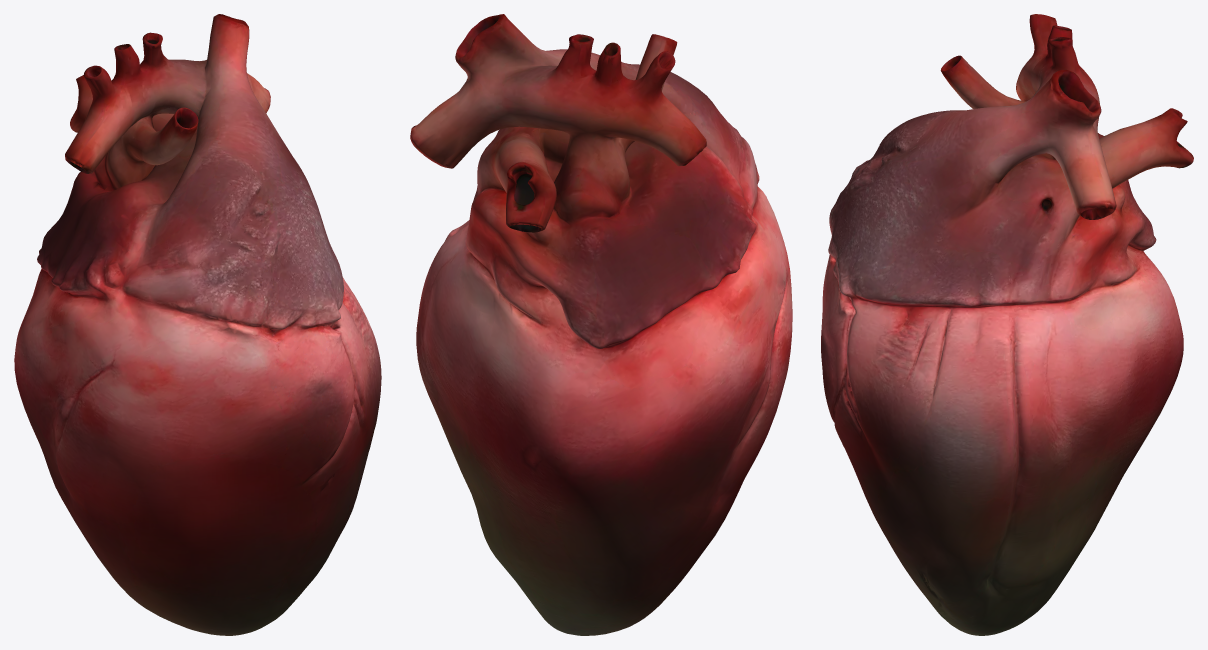
The model's file is modelo-ligero.glb.
The picture shows the model from 3 angles, left to right: view 1: azimuth 30°, elevation 25°; view 2: azimuth 150°, elevation 25°; view 3: azimuth 270°, elevation 25°; orthographic projection. The views are drawn at different scales.
Parts seen in each view (by area): view 1: Object_4; view 2: Object_4; view 3: Object_4.
Boxes of the visible parts, left/top/right/bottom form: Object_4: left=14, top=14, right=381, bottom=635; Object_4: left=410, top=14, right=792, bottom=635; Object_4: left=821, top=14, right=1193, bottom=635.
Size of the model in its own units: 0.6393 by 1.16 by 0.681.
Materials: 1 (1 with a texture image).
